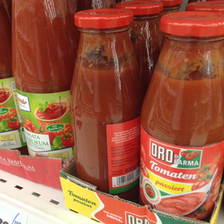tomato_sauce: (141, 9, 224, 218), (69, 8, 140, 201), (10, 1, 76, 161)
